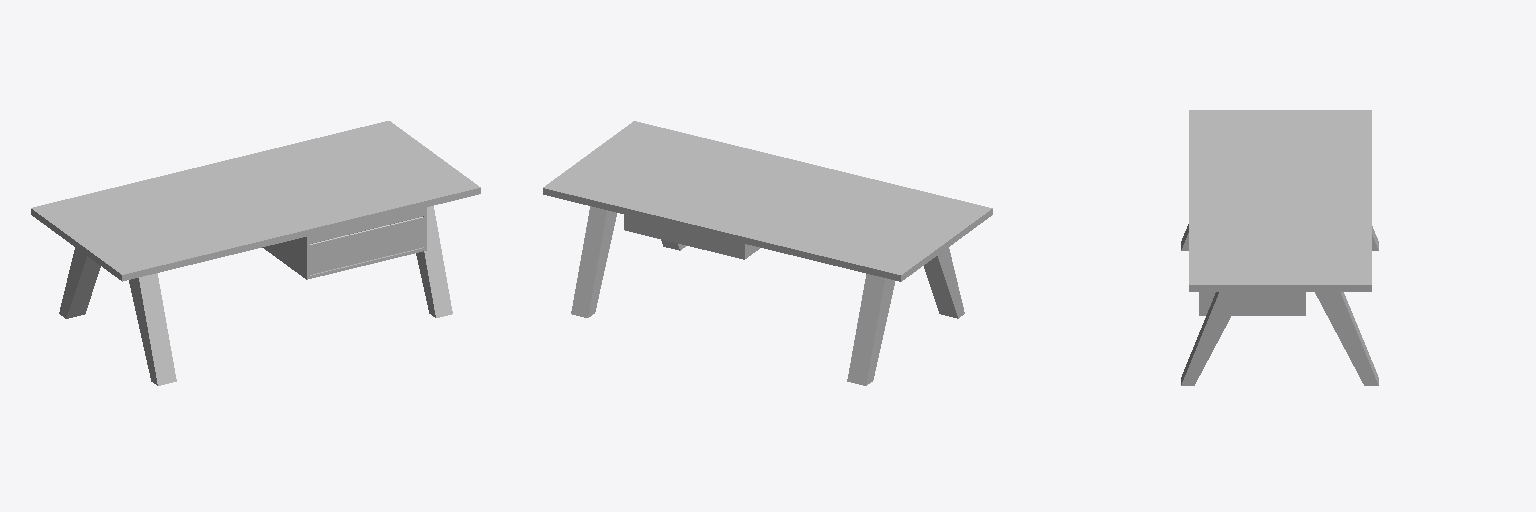
The model's file is desk.obj.
The picture shows the model from 3 angles: view 1: azimuth 30°, elevation 25°; view 2: azimuth 150°, elevation 25°; view 3: azimuth 270°, elevation 25°; orthographic projection.
Parts seen in each view (by area): view 1: Cube.001; view 2: Cube.001; view 3: Cube.001.
Boxes of the visible parts, x1,y1,x2,y2 form: Cube.001: [31, 121, 480, 385]; Cube.001: [543, 121, 992, 385]; Cube.001: [1181, 110, 1378, 385].
Size of the model in its own units: 4.52 by 1.4 by 2.16.